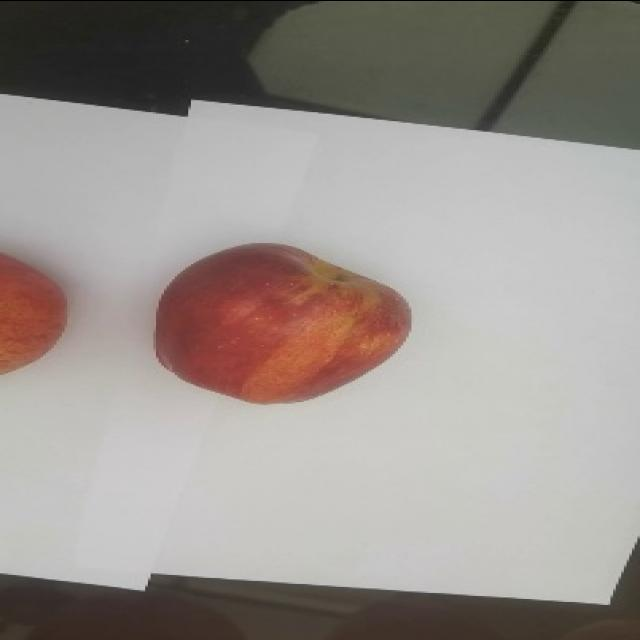Apple: (153, 235, 418, 410), (0, 253, 72, 371)
